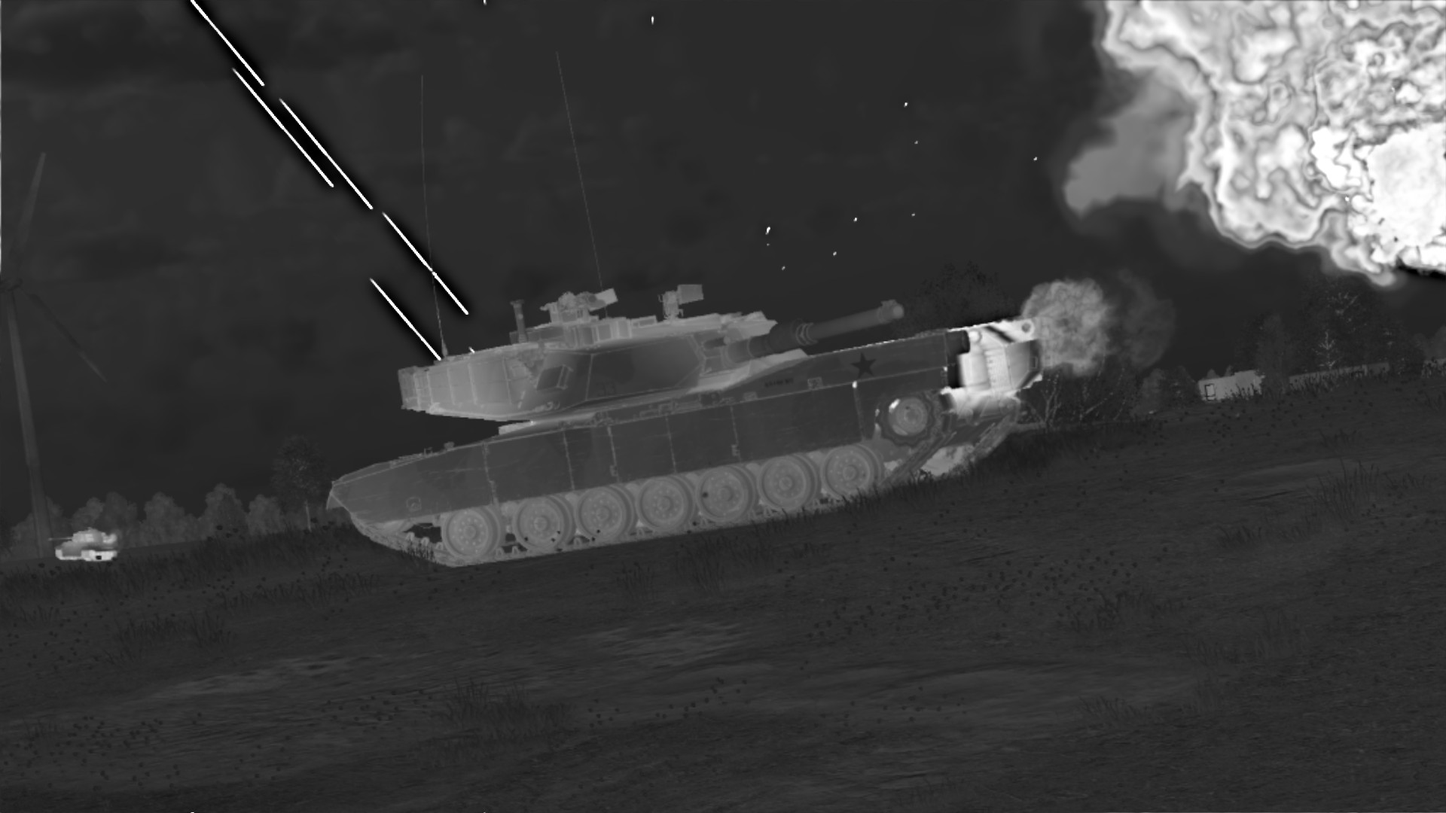abrams: (325, 282, 1050, 570)
